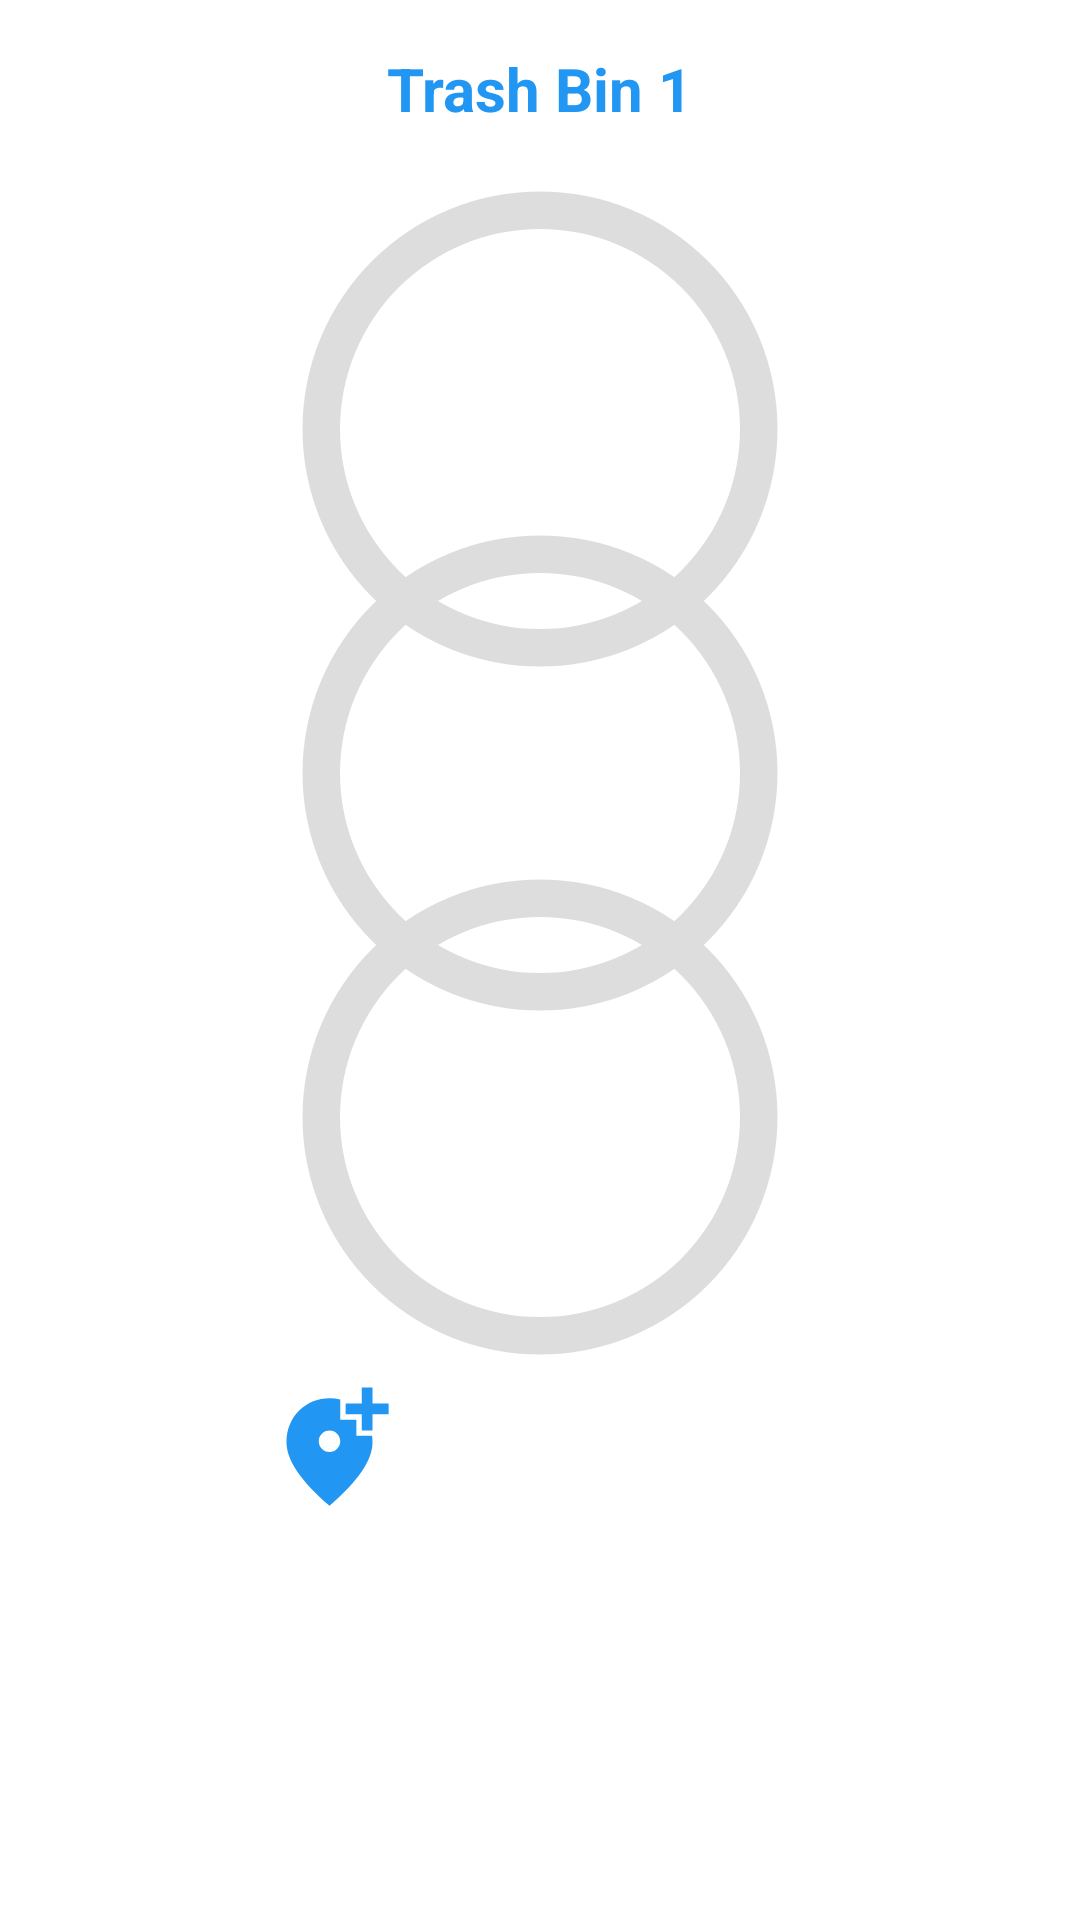

Locate icon controls on the screen. Image size 1080*1920, boxes as bbox=[x1, y1, x2, y2].
add location: bbox=[286, 1387, 389, 1506]
